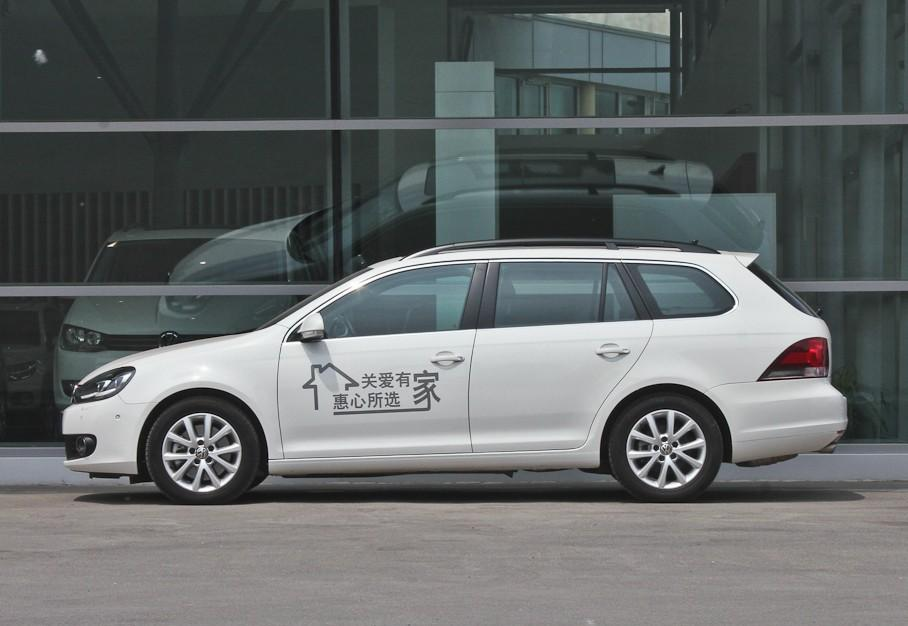Wagon: (58, 236, 849, 505)
